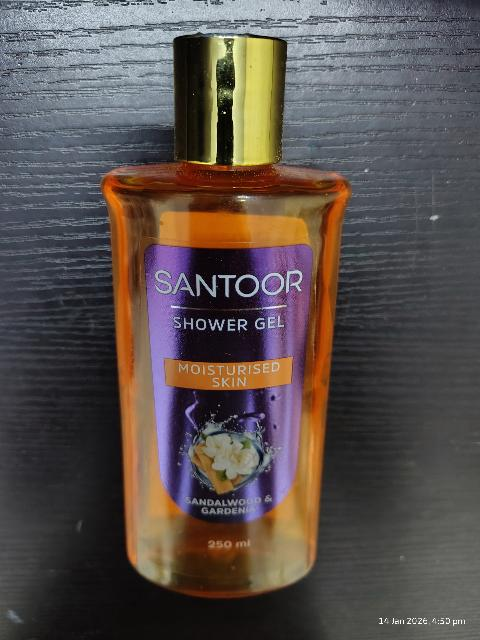santoor bodywash: (105, 22, 333, 597)
